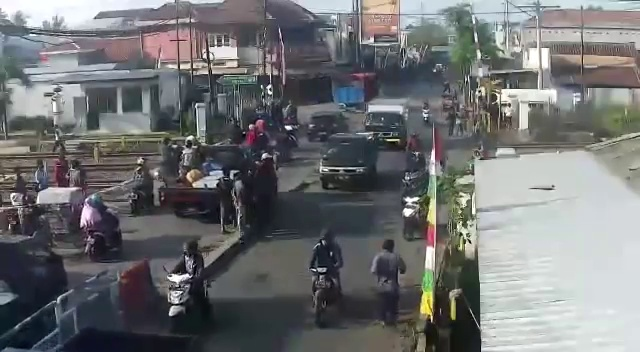car: (322, 132, 380, 193), (361, 95, 409, 151), (328, 72, 379, 113), (307, 112, 346, 144)
motorbike: (162, 239, 216, 334), (305, 228, 346, 333), (81, 194, 123, 262), (401, 181, 429, 243), (129, 159, 157, 216), (421, 99, 431, 126)
